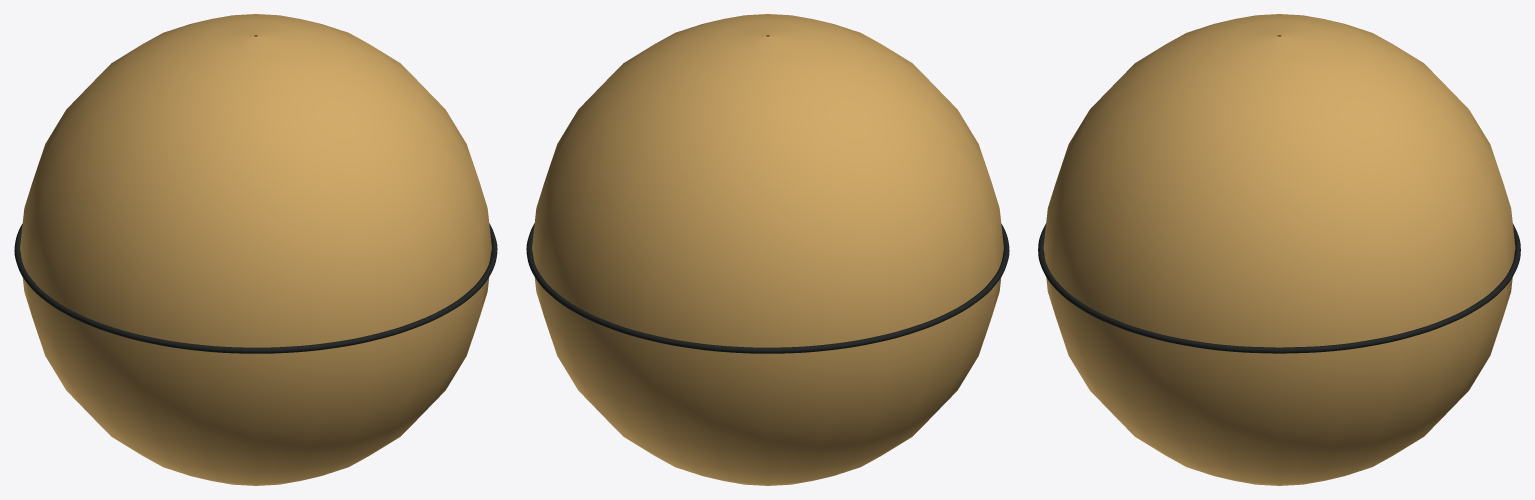
File: sku_ball.glb
The picture shows the model from 3 angles, left to right: view 1: azimuth 30°, elevation 25°; view 2: azimuth 150°, elevation 25°; view 3: azimuth 270°, elevation 25°; orthographic projection.
Visible parts, largest first — view 1: sku_ball_Sport_tan, sku_ball_Grip_rubber; view 2: sku_ball_Sport_tan, sku_ball_Grip_rubber; view 3: sku_ball_Sport_tan, sku_ball_Grip_rubber.
Part boxes in pixels (bbox=[...]): sku_ball_Sport_tan: bbox=[20, 14, 491, 485]; sku_ball_Grip_rubber: bbox=[14, 223, 497, 353]; sku_ball_Sport_tan: bbox=[532, 14, 1003, 485]; sku_ball_Grip_rubber: bbox=[526, 223, 1009, 353]; sku_ball_Sport_tan: bbox=[1043, 14, 1515, 485]; sku_ball_Grip_rubber: bbox=[1038, 224, 1520, 353].
Size of the model in its own units: 0.235 by 0.23 by 0.235.
